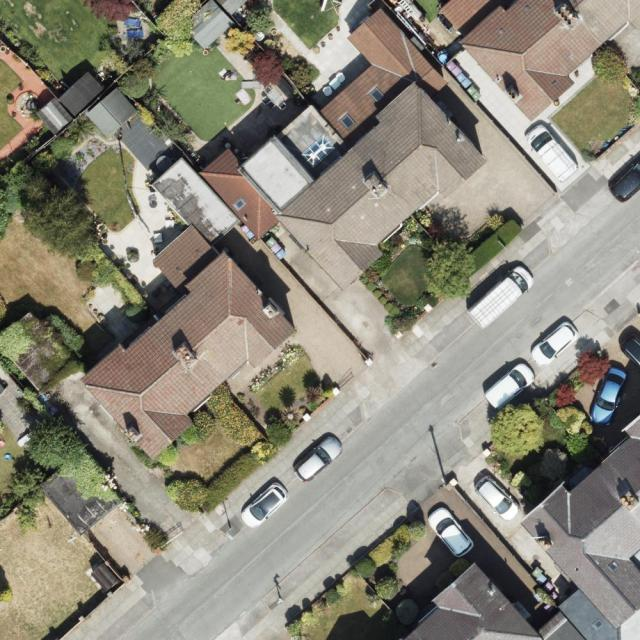roof: (81, 9, 488, 460), (400, 412, 640, 640), (440, 0, 640, 121)
skylight: (301, 135, 336, 167), (367, 86, 386, 104), (339, 113, 356, 132), (232, 197, 245, 212), (592, 618, 605, 632), (607, 560, 619, 573)
